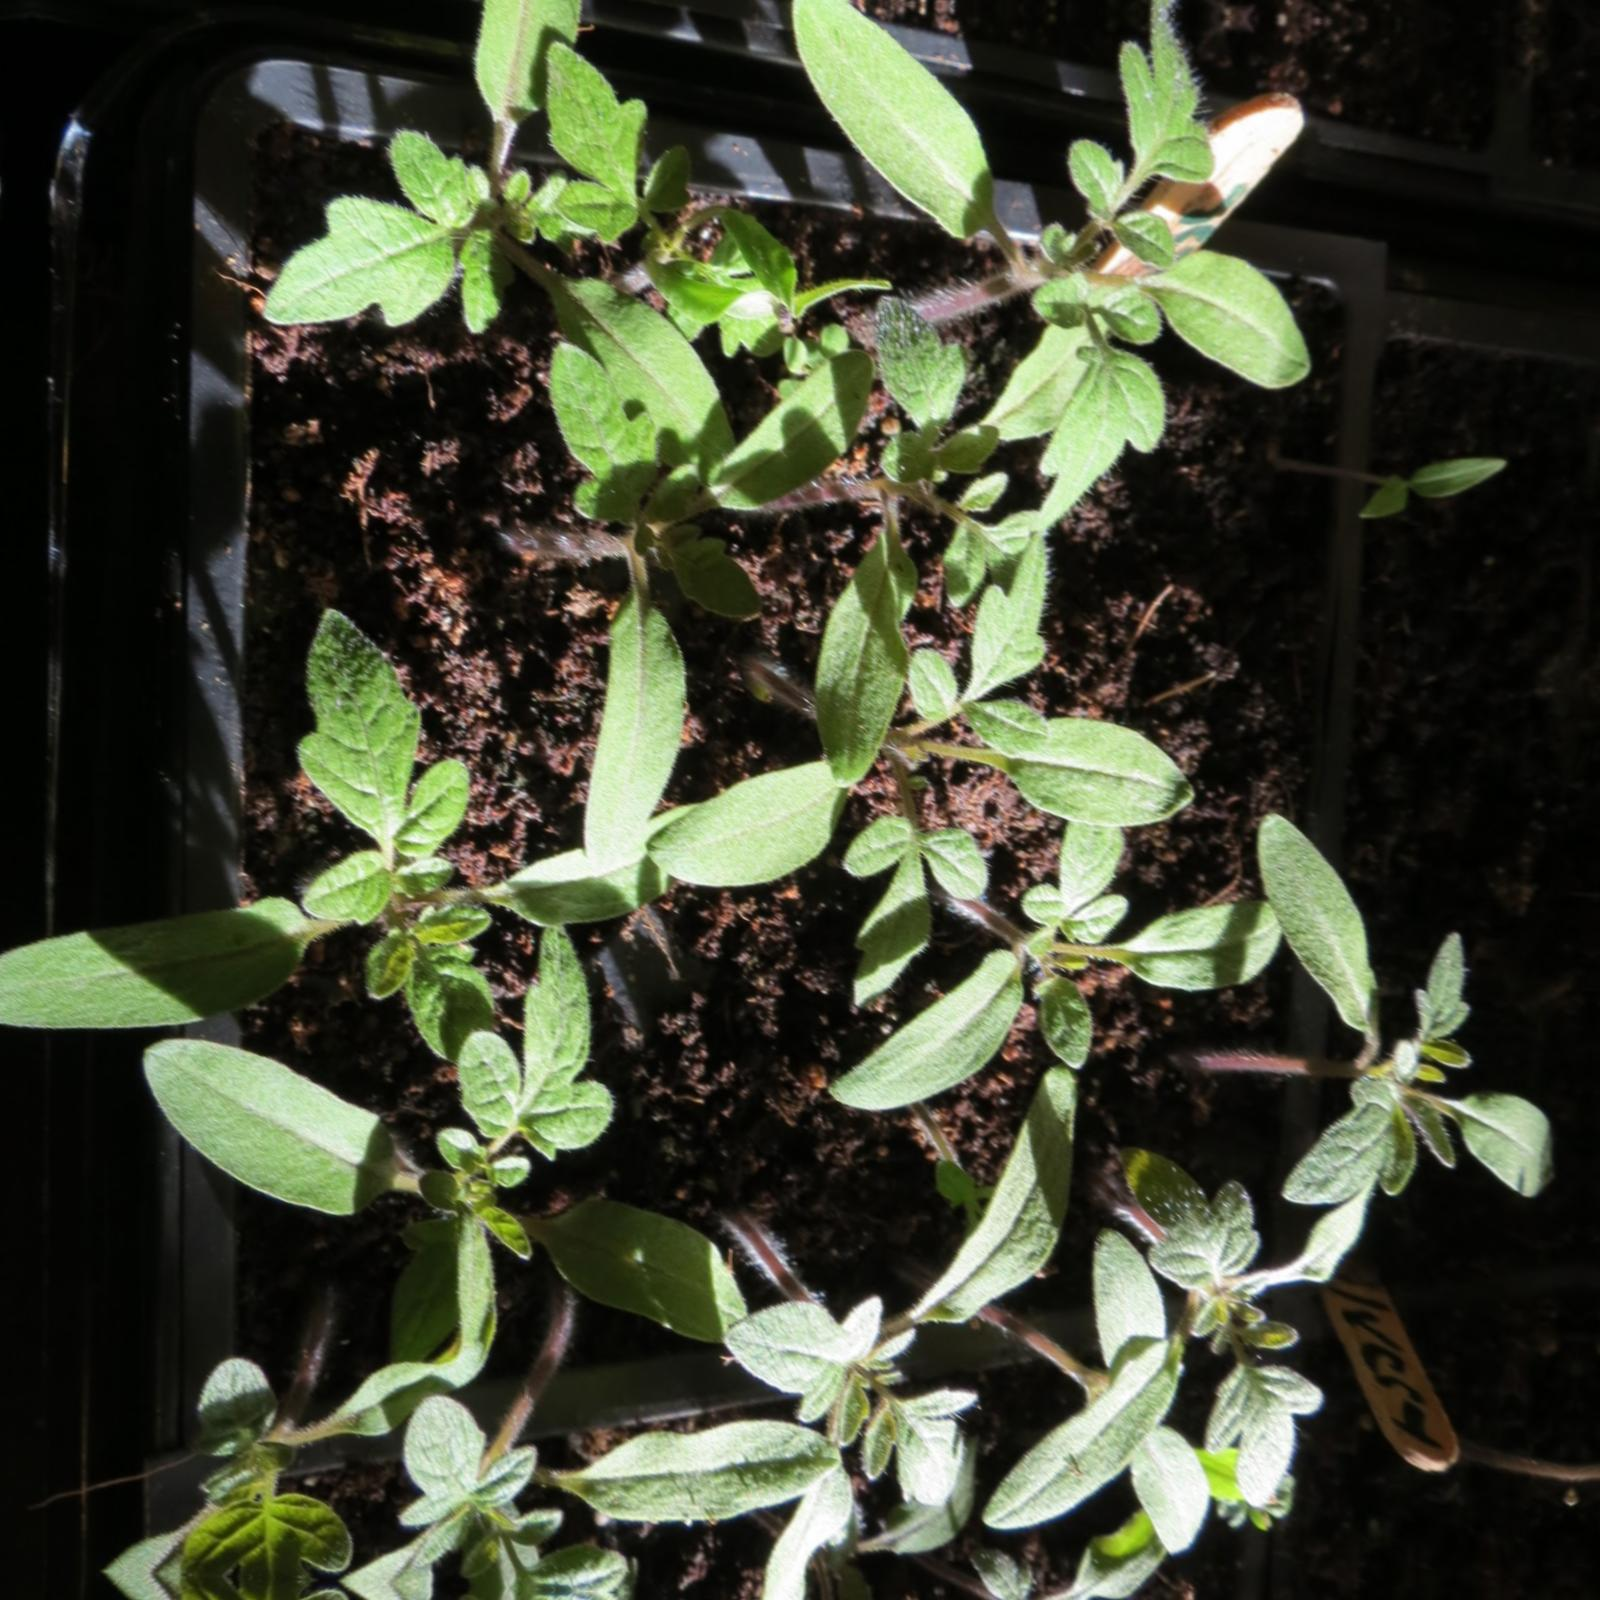Tomato leaf: (241, 125, 520, 371), (122, 1030, 440, 1228), (0, 869, 314, 1058), (759, 0, 1021, 224), (509, 1402, 867, 1565), (974, 1300, 1205, 1551), (465, 1175, 765, 1359), (813, 921, 1062, 1124), (445, 918, 631, 1188), (920, 1045, 1081, 1344), (1233, 806, 1402, 1069), (252, 593, 429, 835), (1071, 22, 1225, 277), (643, 735, 869, 898), (571, 590, 694, 883), (670, 340, 868, 522), (1113, 238, 1342, 393), (1013, 336, 1170, 549), (973, 704, 1223, 832), (1080, 872, 1290, 1010), (1380, 1057, 1567, 1199), (1261, 1068, 1424, 1207), (550, 53, 666, 226)
